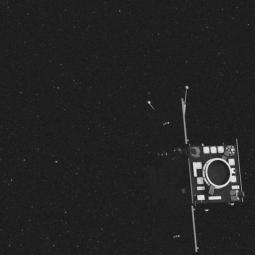proba_2: (162, 86, 249, 255)
